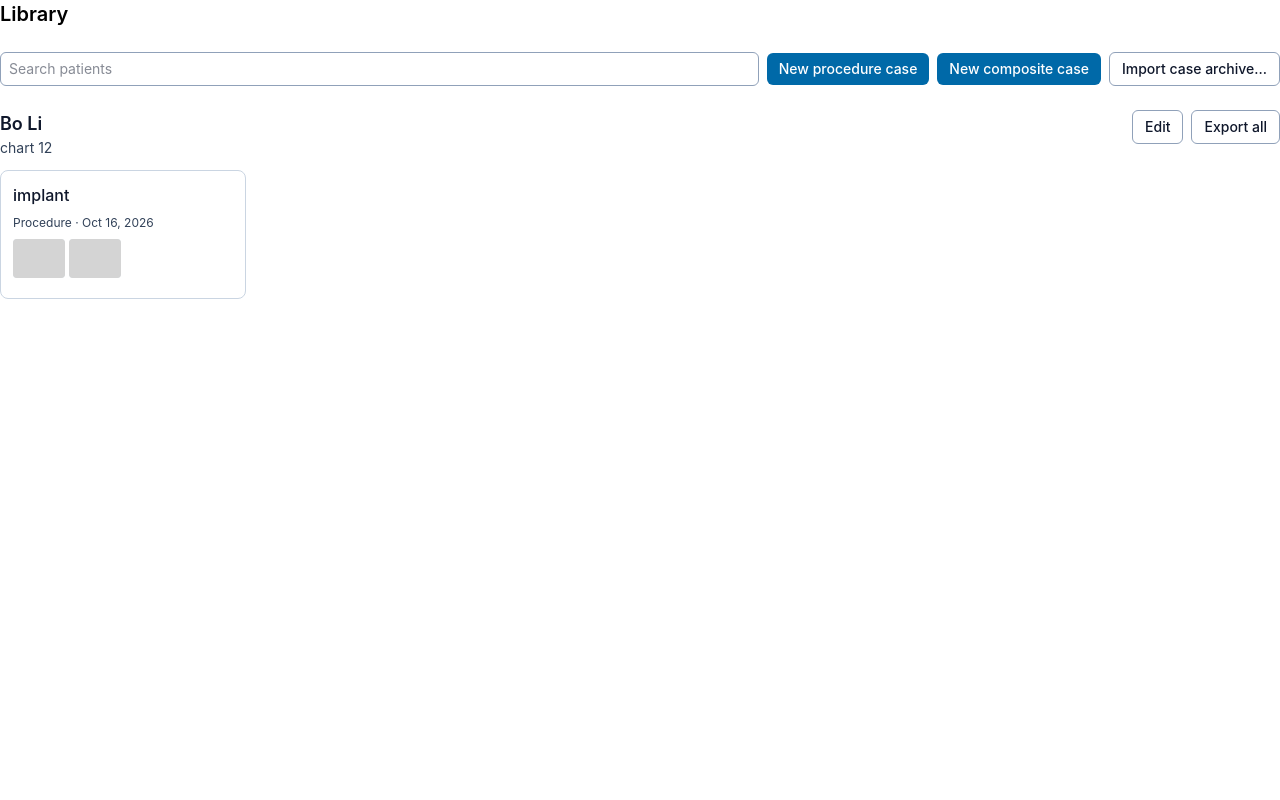
Test case: LibraryScreen › clearing a note sends null
Click the button "Edit": [1158, 127] box x1=1132 y1=110 x2=1184 y2=144
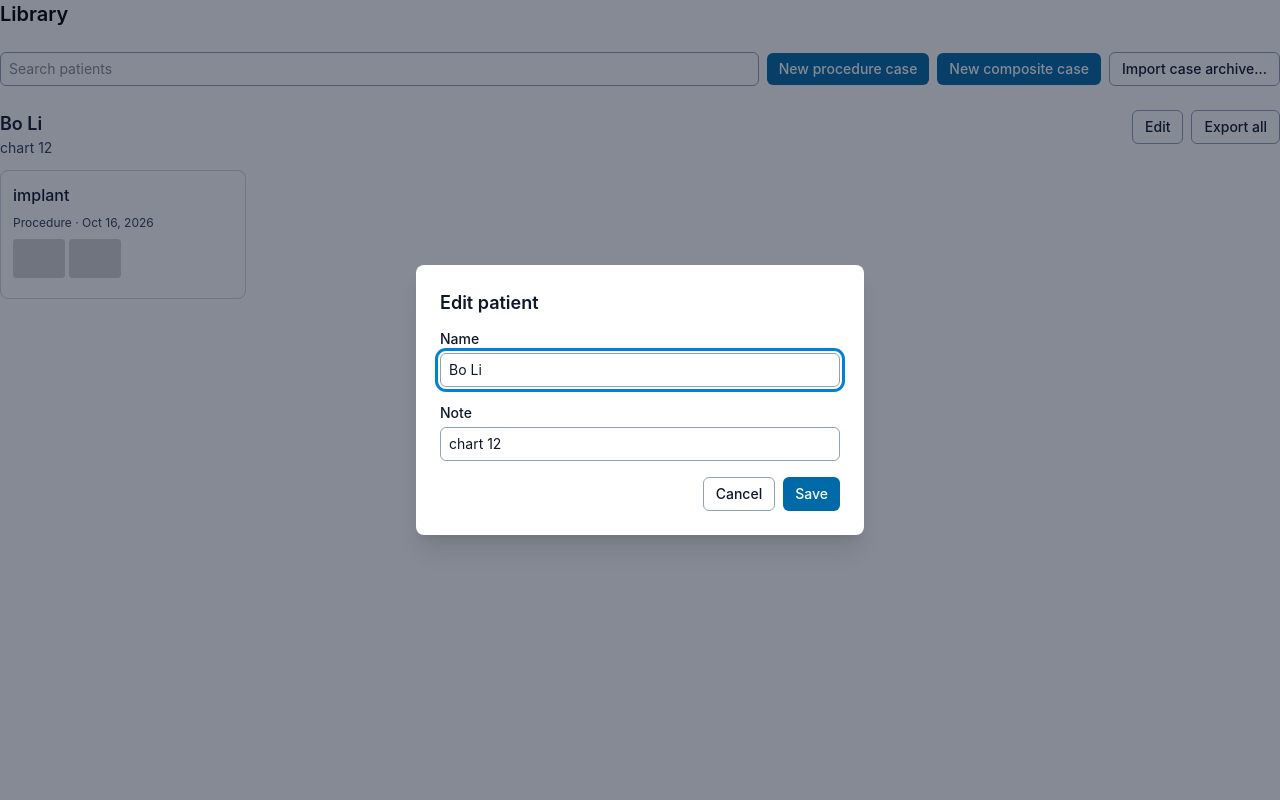
Clear the field labelled "Note": [640, 444] box x1=440 y1=427 x2=840 y2=461
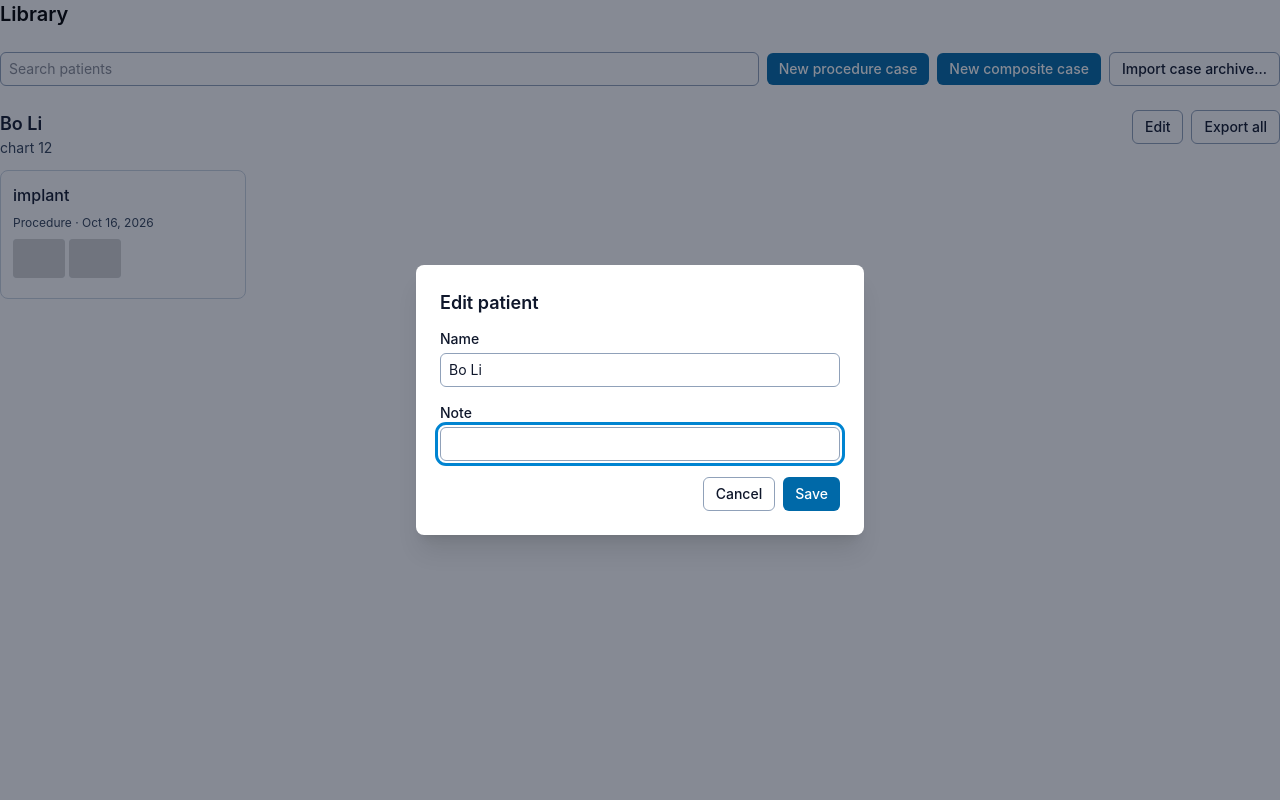
Click the button "Save": [812, 494] box x1=783 y1=477 x2=840 y2=511
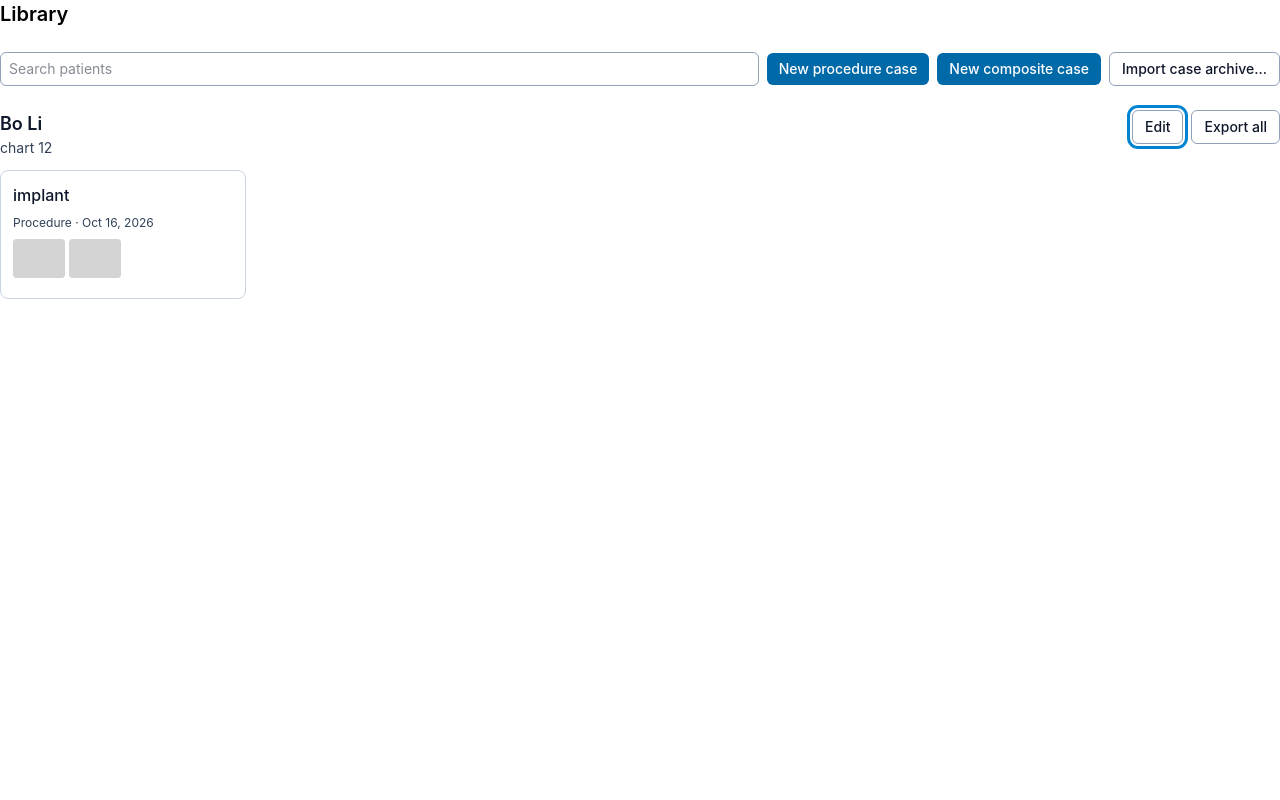
Expected: the dialog is gone
